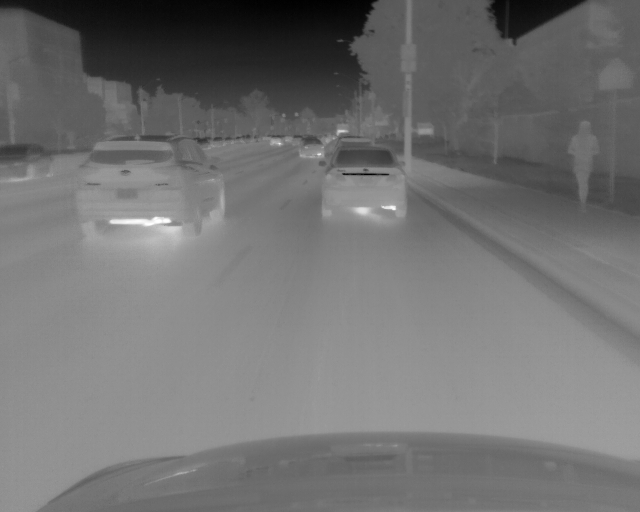car: (77, 134, 227, 242), (319, 144, 408, 224), (1, 144, 58, 185), (325, 136, 374, 150), (298, 137, 321, 158), (194, 137, 210, 150), (212, 136, 224, 148), (268, 136, 281, 147), (224, 136, 234, 146), (291, 136, 301, 146), (282, 135, 291, 143)
people: (566, 119, 600, 213)
